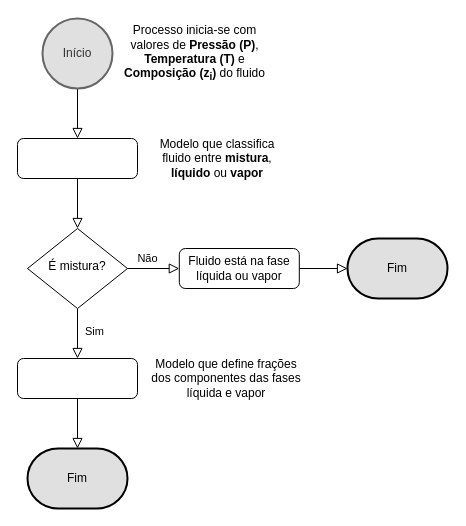
The diagram is 466 pixels wide and 526 high, and some of its shapes have lost their labels. Here are the shapes that lost their labels. From the top down, the centre of each, then its label:
(x=77, y=158): Modelo de Classificação
(x=77, y=378): Modelo de Regressão
